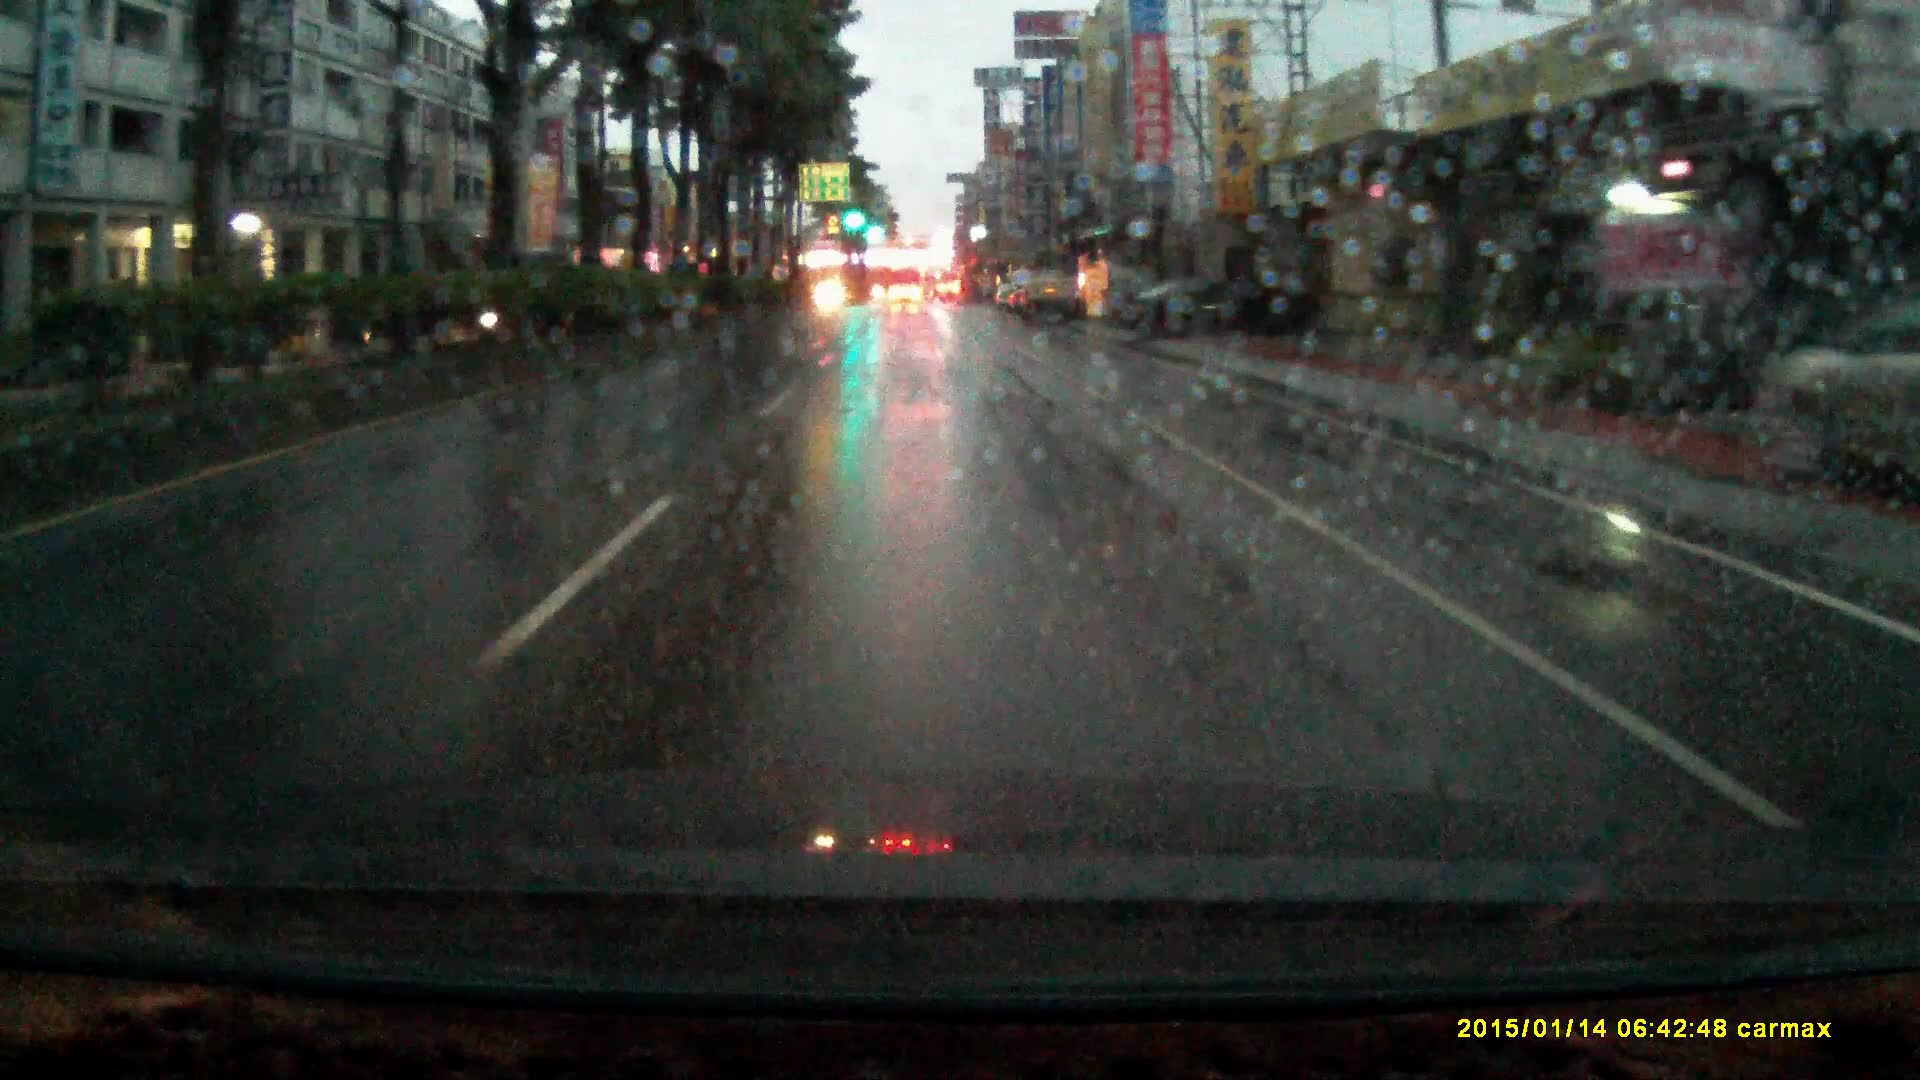vehicle: (1747, 274, 1920, 506), (1110, 281, 1319, 344), (1018, 273, 1080, 326), (886, 285, 924, 309)
